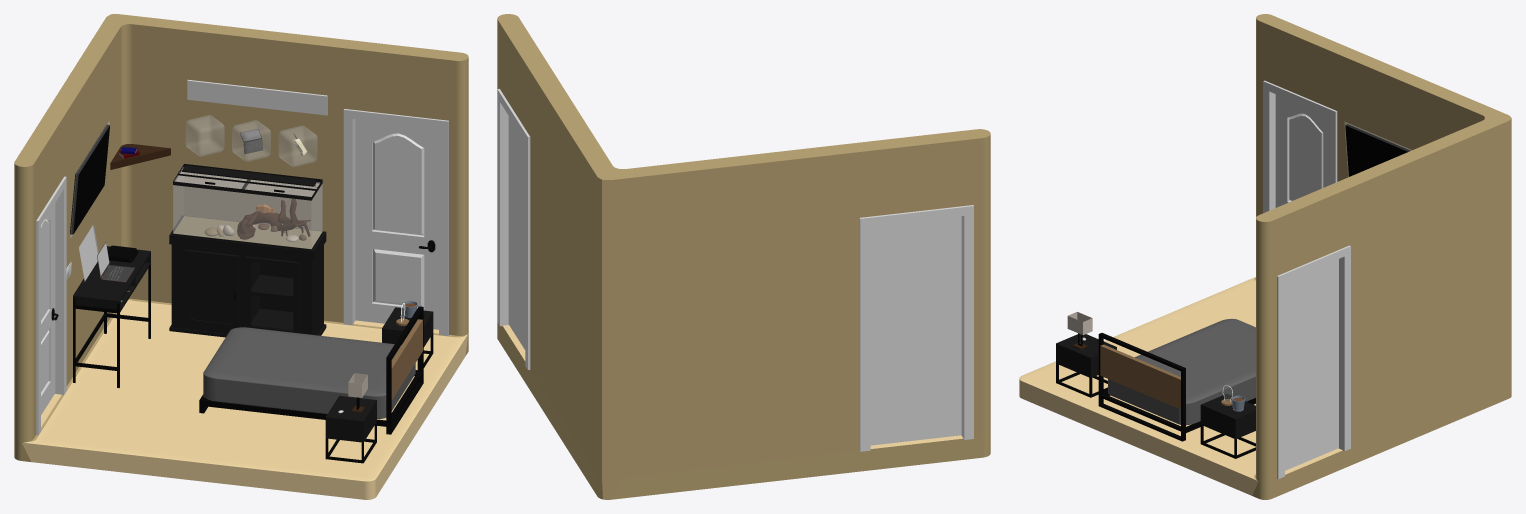
3 views of the same model, side by side, from view 1: azimuth 30°, elevation 25°; view 2: azimuth 150°, elevation 25°; view 3: azimuth 270°, elevation 25° (orthographic). The views are drawn at different scales.
Visible parts, largest first — view 1: room, door.001, fish tank stand, mattress, fish tank glass, door frame.001, bed frame, door frame, board dec, door, side table, desk (+15 smaller); view 2: room, door, door frame, door frame.001, door.001; view 3: room, door.001, mattress, door, bed frame, door frame.001, door frame, side table.001, side table, tv screen.
Boxes of the visible parts, left/top/right/bottom form: room: left=14, top=14, right=468, bottom=499; door.001: left=355, top=119, right=438, bottom=329; fish tank stand: left=169, top=215, right=326, bottom=337; mattress: left=203, top=327, right=415, bottom=418; fish tank glass: left=173, top=172, right=322, bottom=248; door frame.001: left=343, top=109, right=448, bottom=335; bed frame: left=199, top=306, right=423, bottom=434; door frame: left=36, top=176, right=66, bottom=435; board dec: left=187, top=79, right=327, bottom=115; door: left=41, top=203, right=58, bottom=414; side table: left=325, top=396, right=376, bottom=463; desk: left=73, top=246, right=150, bottom=312; room: left=497, top=14, right=990, bottom=499; door: left=870, top=216, right=961, bottom=445; door frame: left=859, top=205, right=973, bottom=451; door frame.001: left=497, top=89, right=530, bottom=369; door.001: left=508, top=116, right=525, bottom=349; room: left=1019, top=14, right=1511, bottom=499; door.001: left=1285, top=259, right=1338, bottom=470; mattress: left=1108, top=318, right=1255, bottom=425; door: left=1275, top=94, right=1328, bottom=207; bed frame: left=1098, top=333, right=1255, bottom=441; door frame.001: left=1277, top=245, right=1350, bottom=479; door frame: left=1263, top=80, right=1337, bottom=213; side table.001: left=1200, top=394, right=1255, bottom=458; side table: left=1056, top=334, right=1116, bottom=397; tv screen: left=1345, top=125, right=1407, bottom=176.
Bounding box in the file's own units: 11.73 × 7.31 × 11.73.
